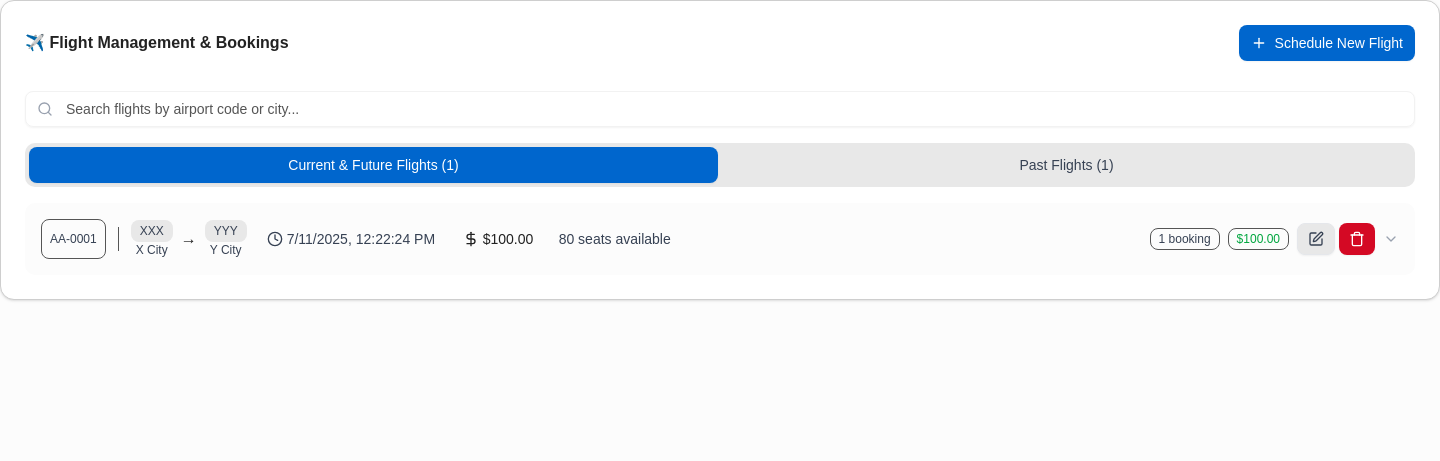
FlightManagement › loads bookings when flight row expanded
# Expand first (future) flight row – click on its badge text
Click the text "AA-0001" at (73, 239), box [41,219,106,259]
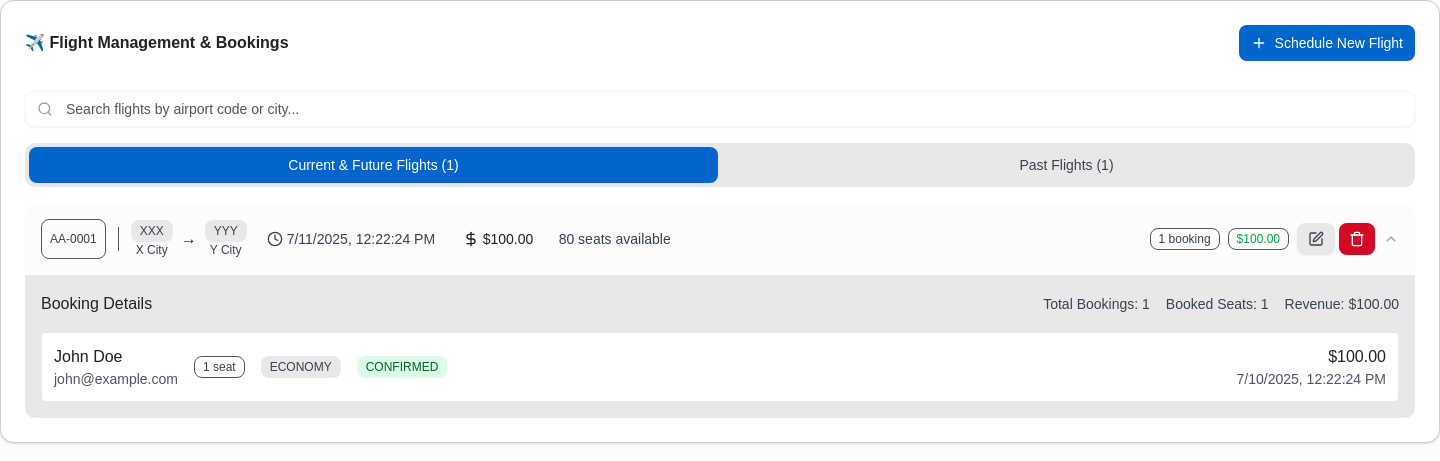
Expected: the text "John Doe" is shown, [54,348,122,365]
